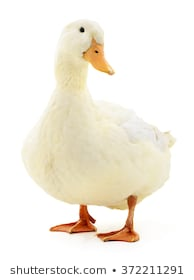duck: (21, 16, 177, 252)
